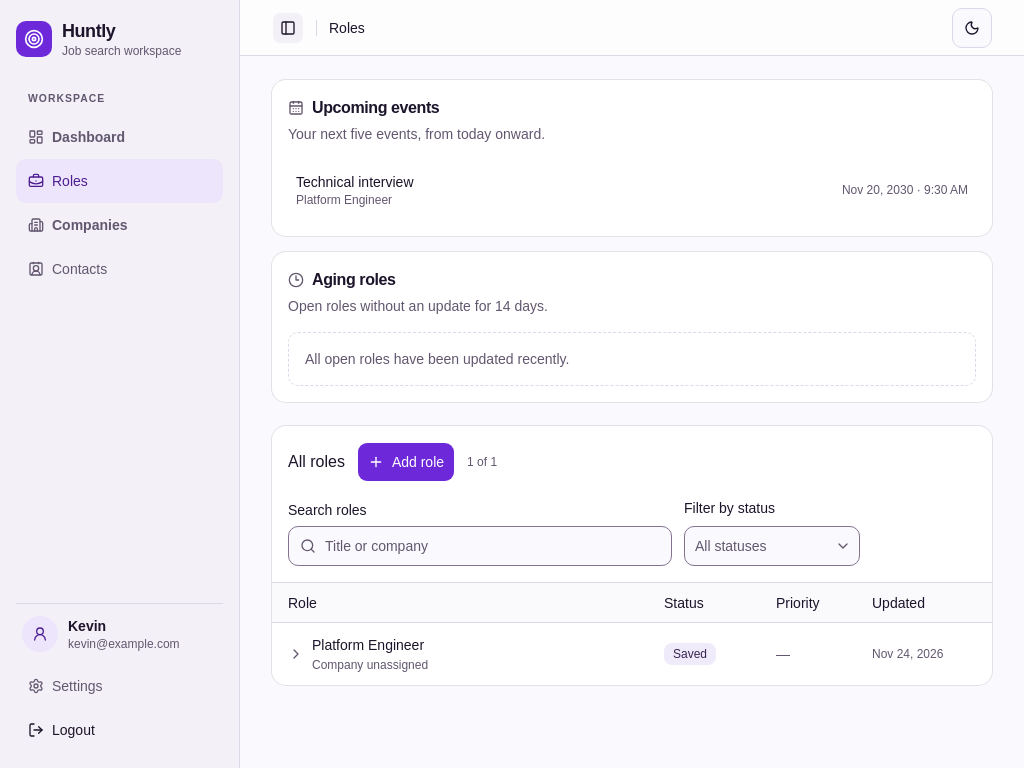
Test: closes an unchanged event without a write and restores focus to Edit
The image size is (1024, 768).
Step 1. Click the button "Platform Engineer Company unassigned" → {"x": 368, "y": 645}, box [288,635,640,673]
(page scrolled)
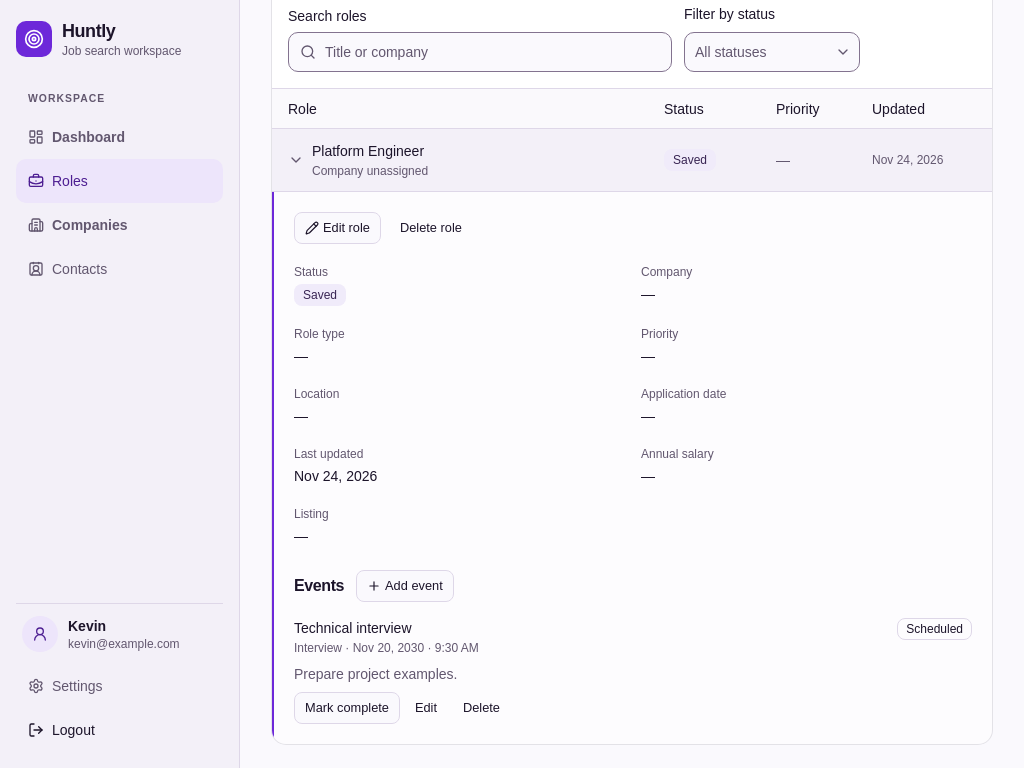
expect the heading "Technical interview" is shown: met, box [294,620,412,636]
Step 2. Click the button with aria-label "Edit Technical interview" → {"x": 426, "y": 708}, box [404,692,448,724]
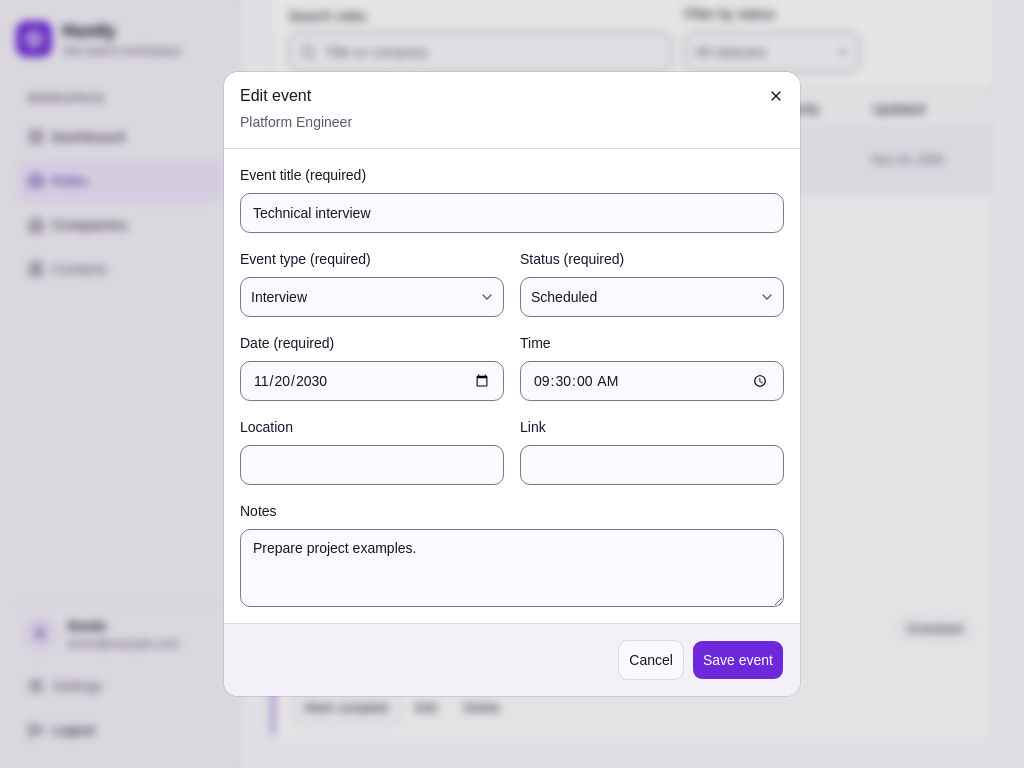
Step 3. Click the button "Save event" → {"x": 738, "y": 660}, box [692,640,784,680]
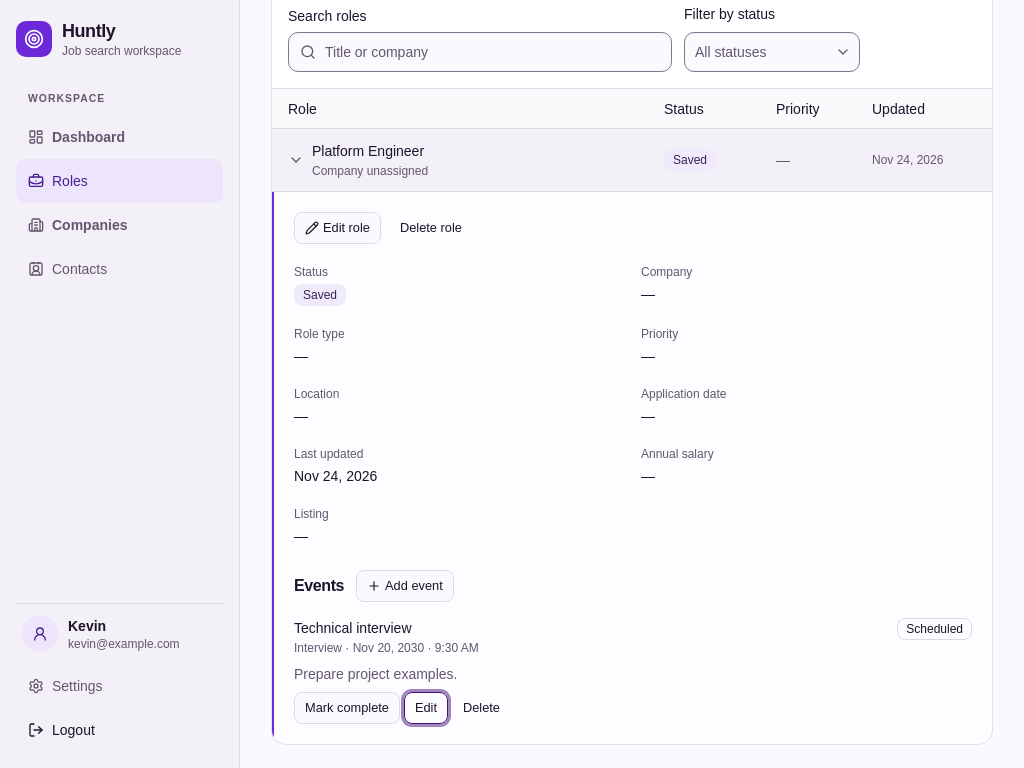
expect the dialog is gone: met
